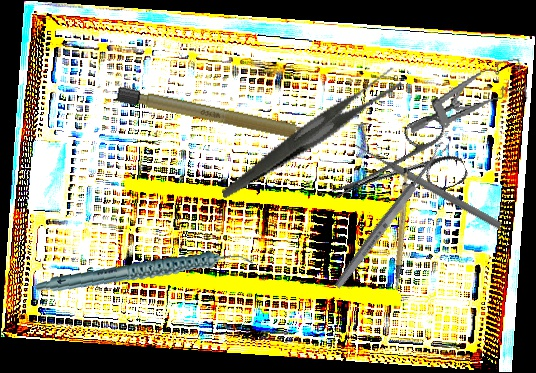Dressing Forceps: (201, 65, 419, 199)
Handpiece: (34, 234, 255, 311)
Iris Scissors: (318, 109, 471, 232)
Pusher: (352, 140, 504, 231)
Scalpel Handle: (115, 86, 328, 146), (375, 167, 426, 291)
Speculum: (400, 56, 532, 136)
Surgical Spoon: (332, 140, 450, 291)
